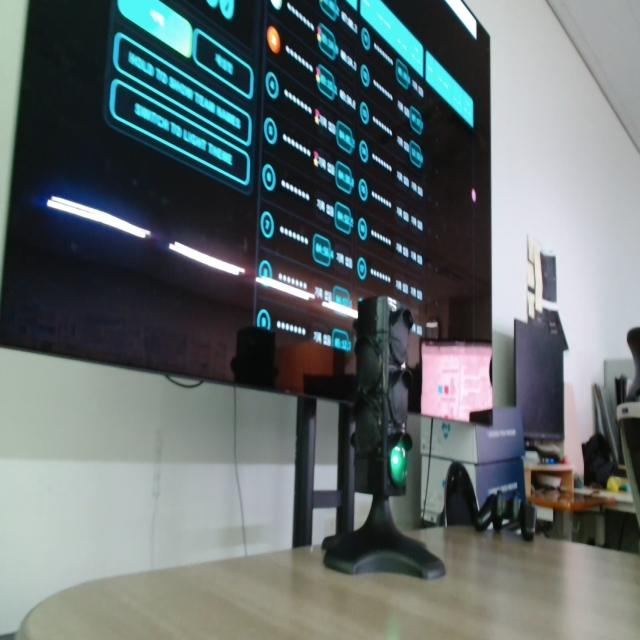green_light: (390, 442, 407, 486)
